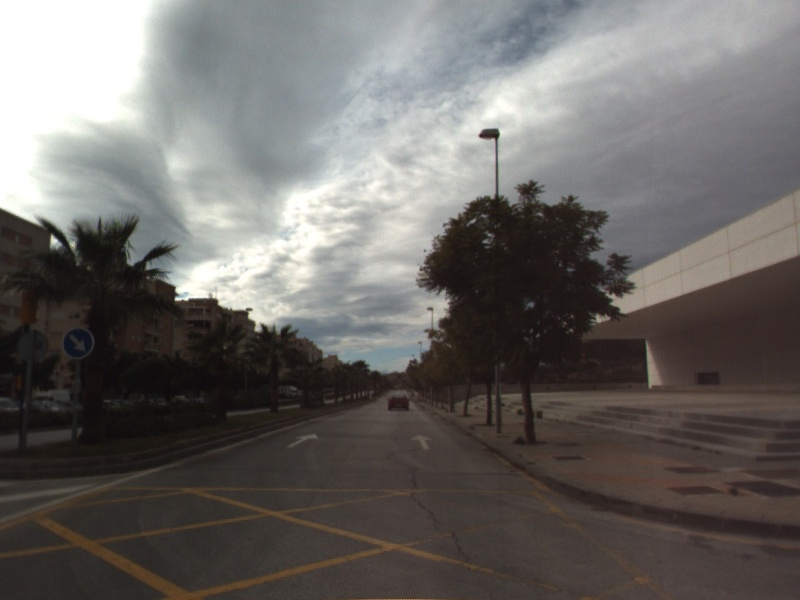STRAIGHT: (284, 432, 321, 449), (408, 432, 435, 452)
